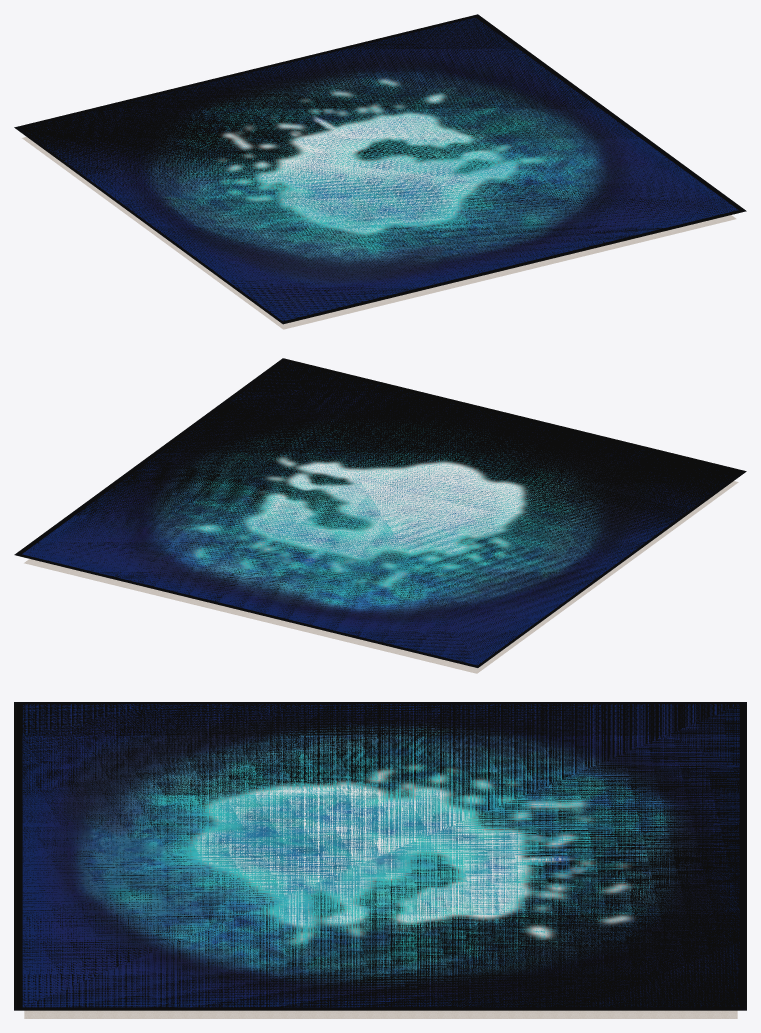
File: pir_m_are_isl_ravensCove_ocean.fbx
3 views of the same model, one above another, from view 1: azimuth 30°, elevation 25°; view 2: azimuth 150°, elevation 25°; view 3: azimuth 270°, elevation 25° (orthographic). The views are drawn at different scales.
Parts seen in each view (by area): view 1: water_color, water_alpha, sandfloor; view 2: water_alpha, water_color, sandfloor; view 3: water_alpha, water_color, sandfloor.
Boxes of the visible parts, x1=… form: water_color: x1=27, y1=18, x2=738, y2=321; water_alpha: x1=14, y1=14, x2=746, y2=324; sandfloor: x1=22, y1=137, x2=736, y2=329; water_alpha: x1=14, y1=358, x2=746, y2=667; water_color: x1=22, y1=363, x2=725, y2=665; sandfloor: x1=24, y1=481, x2=738, y2=673; water_alpha: x1=14, y1=702, x2=746, y2=1010; water_color: x1=22, y1=704, x2=739, y2=1007; sandfloor: x1=24, y1=1010, x2=737, y2=1018.
Bounding box in the file's own units: 366482 × 6894 × 368004.
3 materials, 3 textured.
